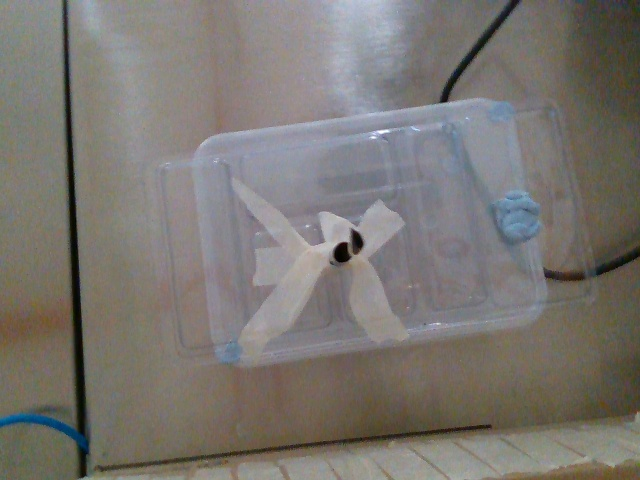test_strip: (345, 223, 363, 257)
